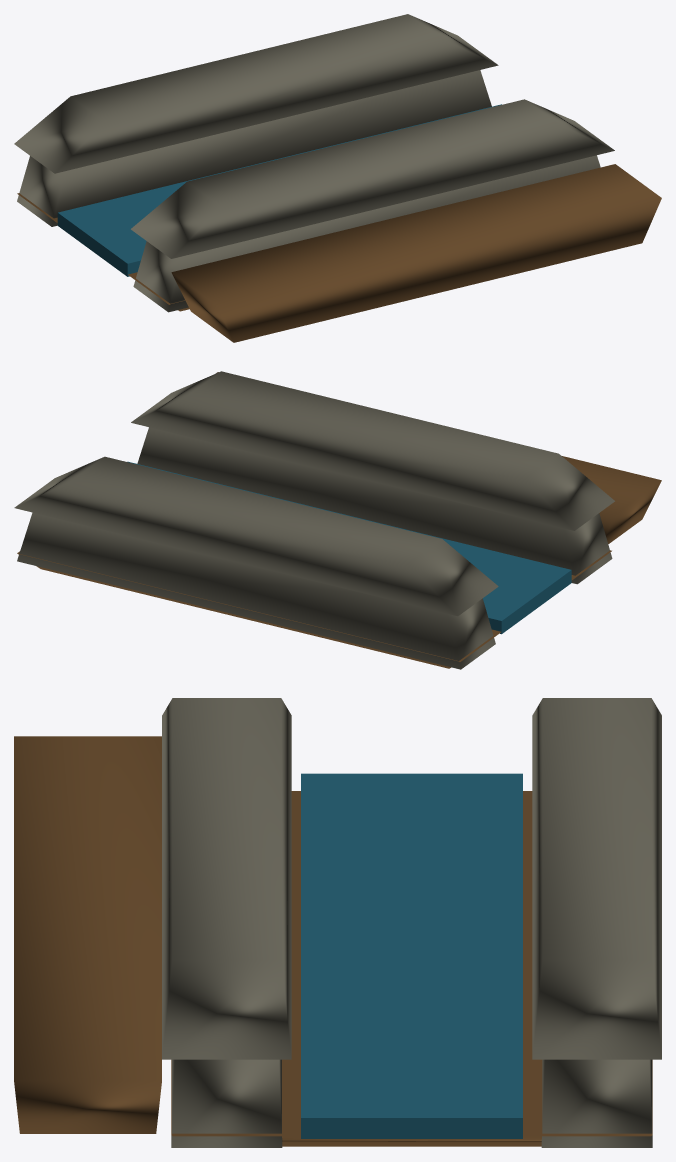
File: R39_HAN_LUOYANG_INFRASTRUCTURE_CANAL_STONE_BANK_A.fbx
3 renders of one model, top to bottom at view 1: azimuth 30°, elevation 25°; view 2: azimuth 150°, elevation 25°; view 3: azimuth 270°, elevation 25°, orthographic. The views are drawn at different scales.
Parts seen in each view (by area): view 1: walkway, coping_s, coping_n, bank_s, bank_n, water; view 2: coping_n, coping_s, bank_s, bank_n, water, walkway, bed; view 3: water, walkway, coping_s, coping_n, bed, bank_s, bank_n.
Part boxes in pixels (x1,y1,x2,y2): walkway: (171,164,661,342); coping_s: (14,14,498,173); coping_n: (131,99,614,258); bank_s: (17,70,491,226); bank_n: (133,155,600,312); water: (57,104,501,276); coping_n: (131,371,614,530); coping_s: (14,456,498,616); bank_s: (17,512,495,669); bank_n: (137,427,612,584); water: (127,461,571,634); walkway: (216,372,661,543); bed: (17,550,611,668); water: (301,773,522,1138); walkway: (14,736,161,1133); coping_s: (532,698,661,1059); coping_n: (162,698,291,1059); bed: (171,791,652,1146); bank_s: (541,1059,652,1147); bank_n: (171,1059,282,1147).
Bounding box in the file's own units: 88 × 19 × 70.
